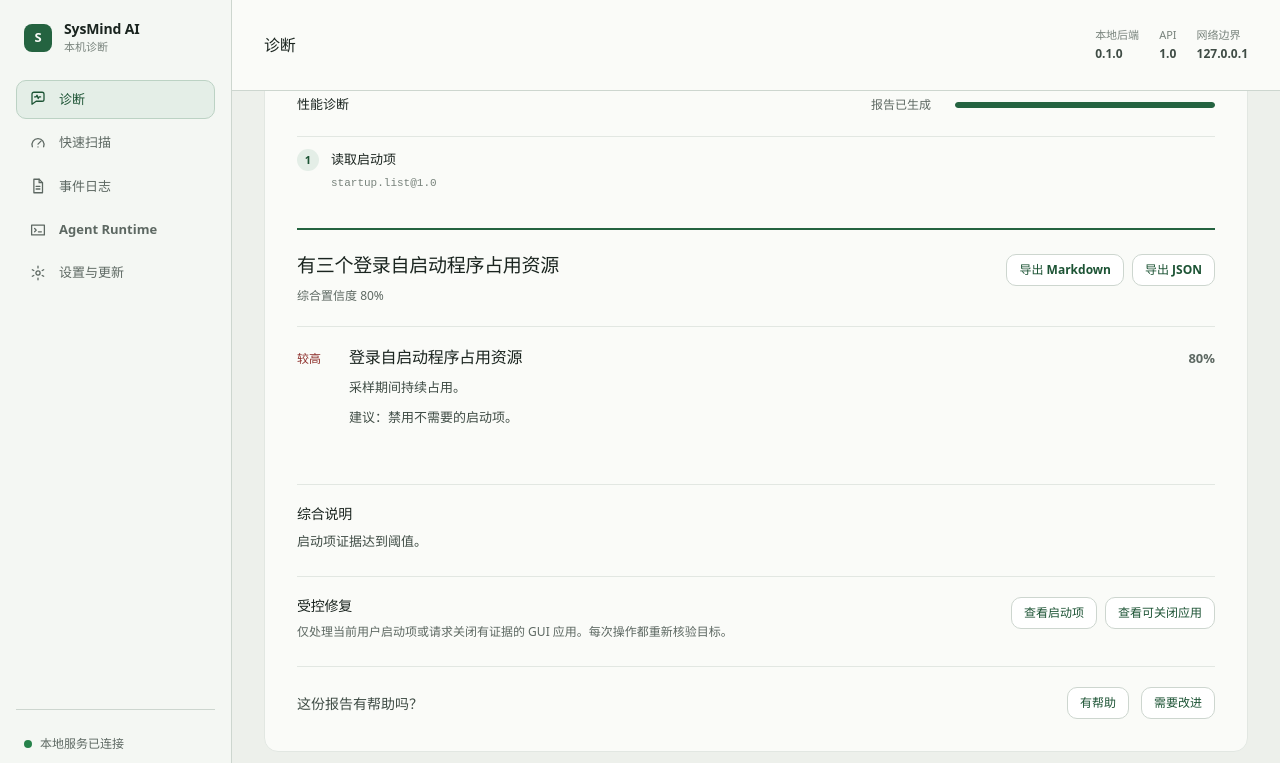
controlled action recovery across navigation › lets the user take over before the restore lands
(page scrolled)
Note: The user opens the candidate list while the record read is still open.
Click the button "查看启动项".
click(1054, 613)  # box [1011, 597, 1097, 629]
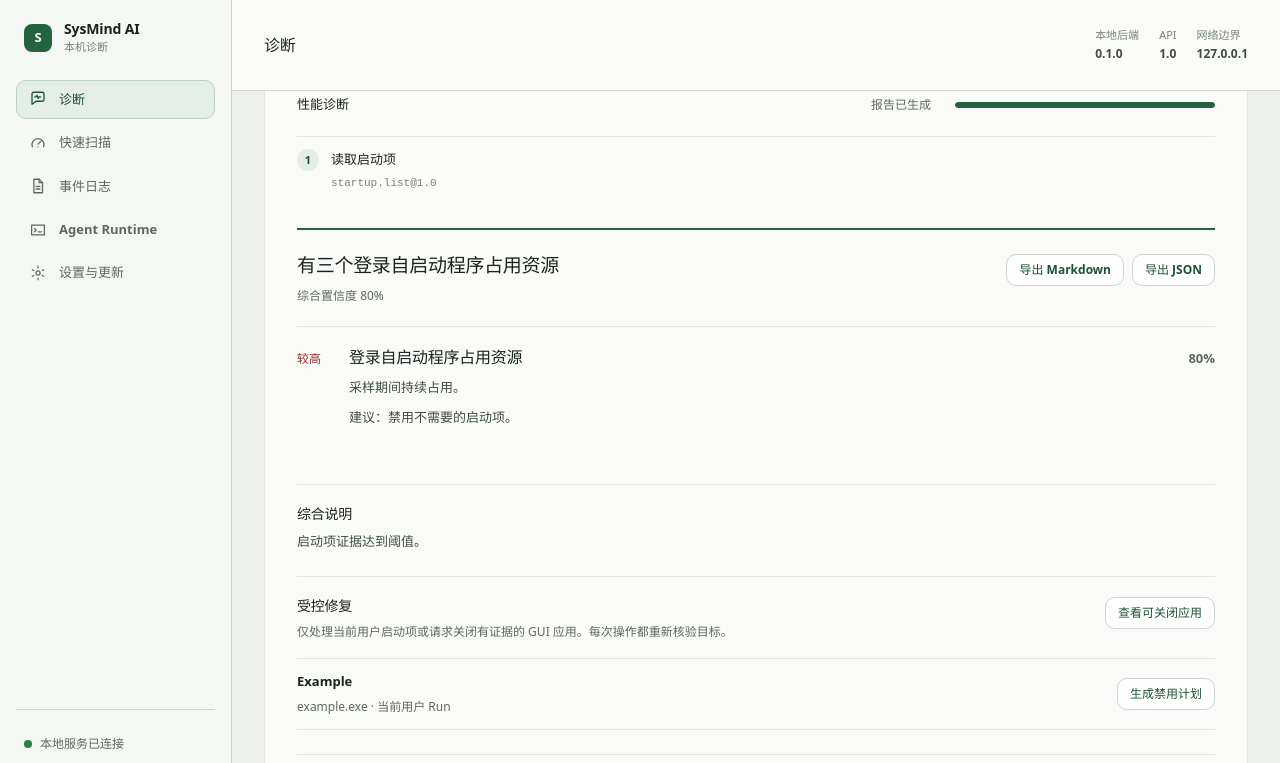
Expected: the button "生成禁用计划" is shown, [1117, 678, 1215, 710]
